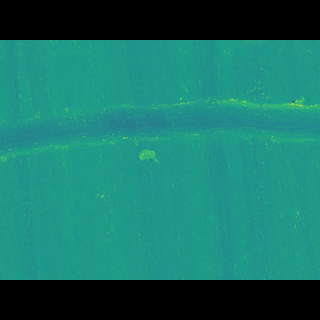Loch: (0, 112, 320, 163), (134, 150, 164, 163)
